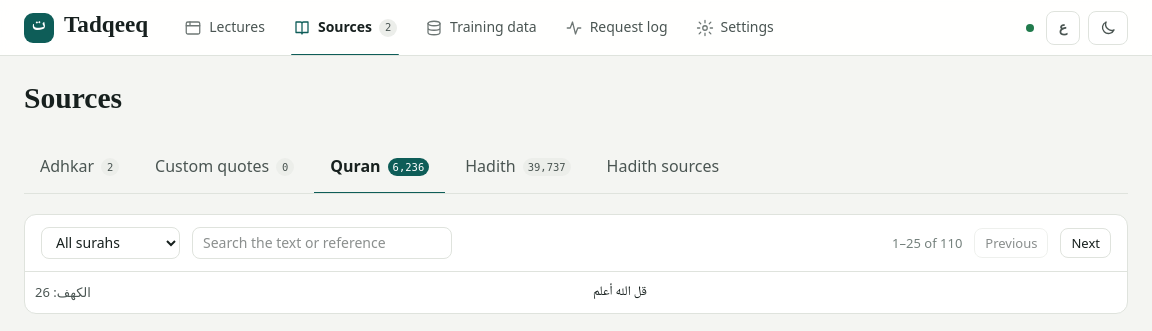
Test: browsing the Quran: pick a surah, go to page 2 (F-076)
Expected: the number of rows with test id "browse-row" is 1, x1=25 y1=272 x2=1127 y2=313
Expected: the text with test id "corpora-count-quran" reads "6,236", x1=393 y1=161 x2=424 y2=173
Select "18. الكهف (110)" in the dropdown with test id "browse-group" at (110, 243), box x1=41 y1=227 x2=180 y2=259
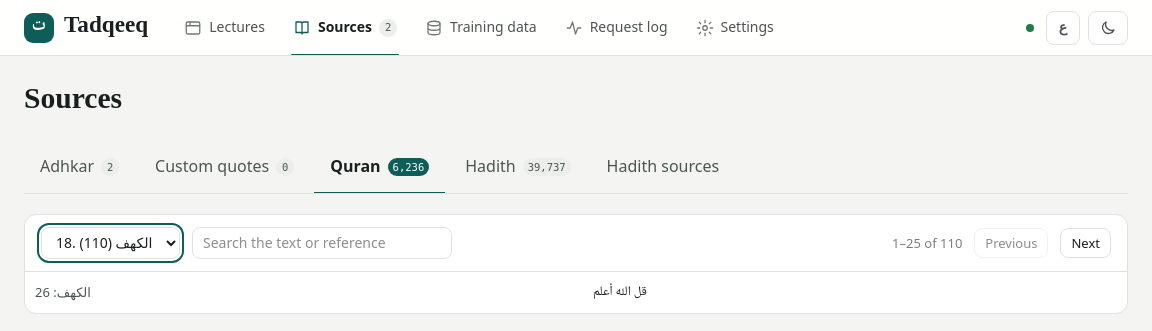
Click the button with test id "browse-next" at (1086, 243), box x1=1060 y1=228 x2=1111 y2=258
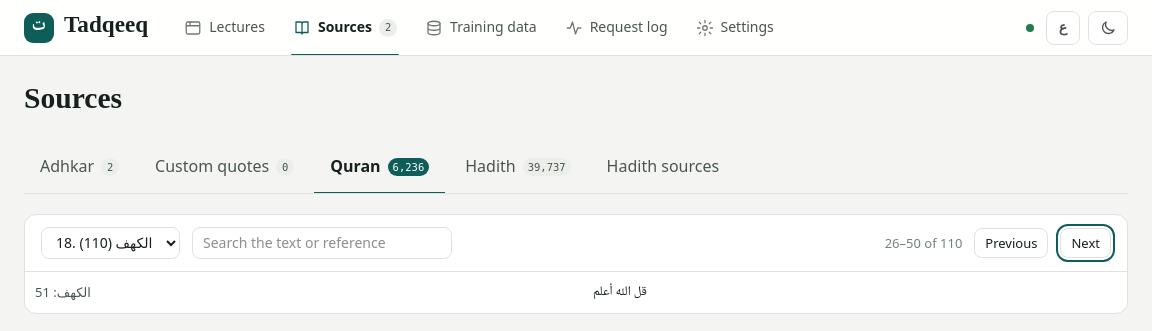
Expected: the row with test id "browse-row" shows "الكهف: 51", x1=35 y1=283 x2=91 y2=301
Expected: the text with test id "browse-range" reads "26–50 of 110", x1=885 y1=234 x2=962 y2=252
